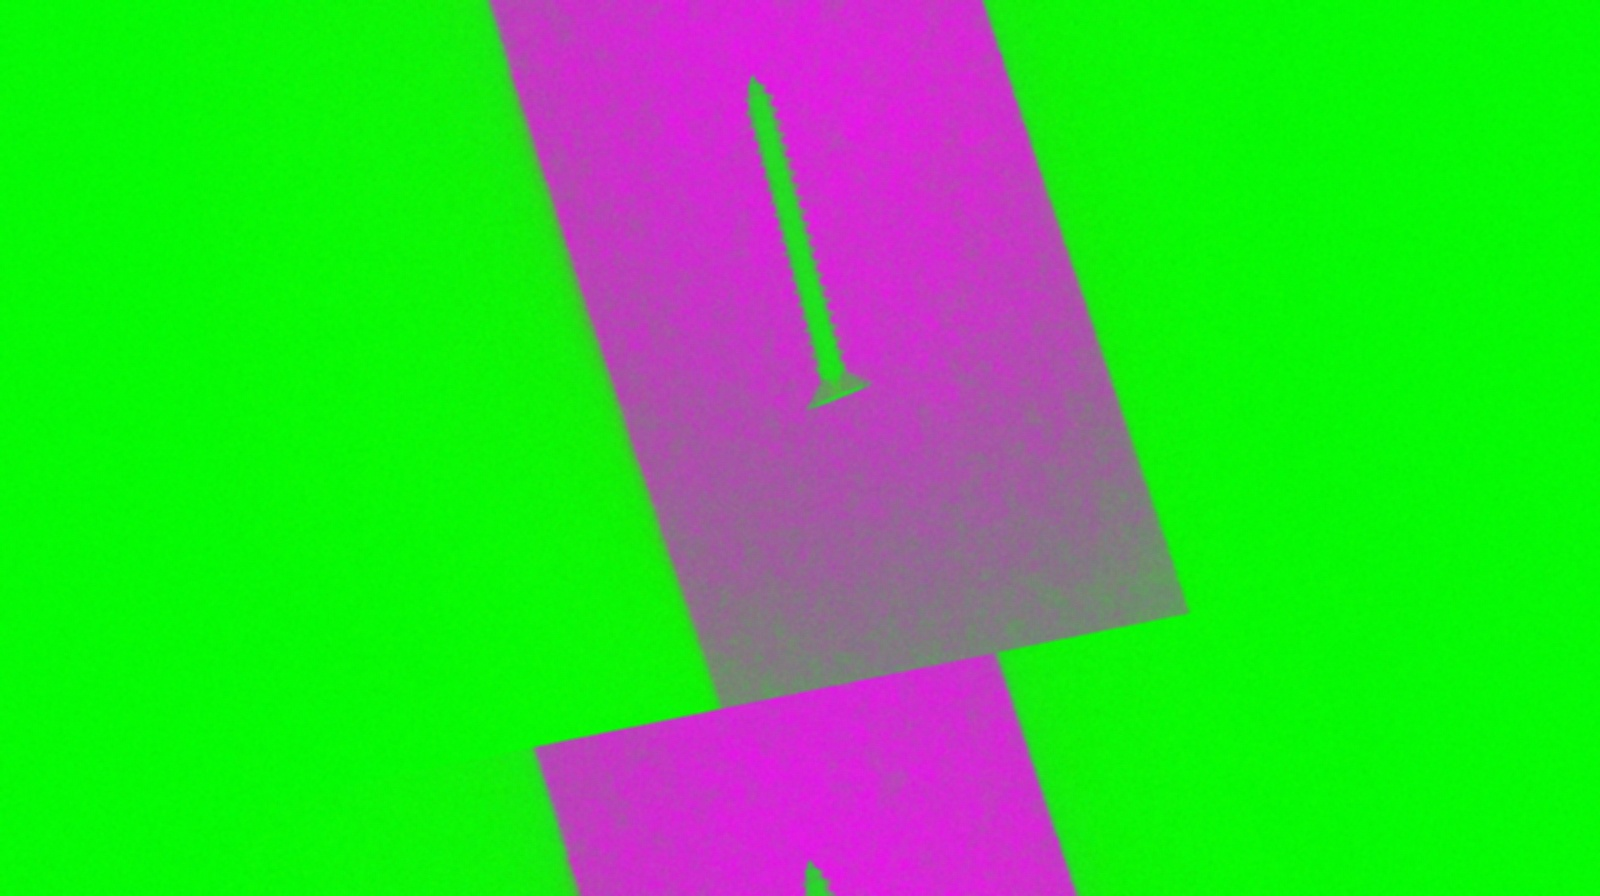S002: (727, 47, 878, 438)
